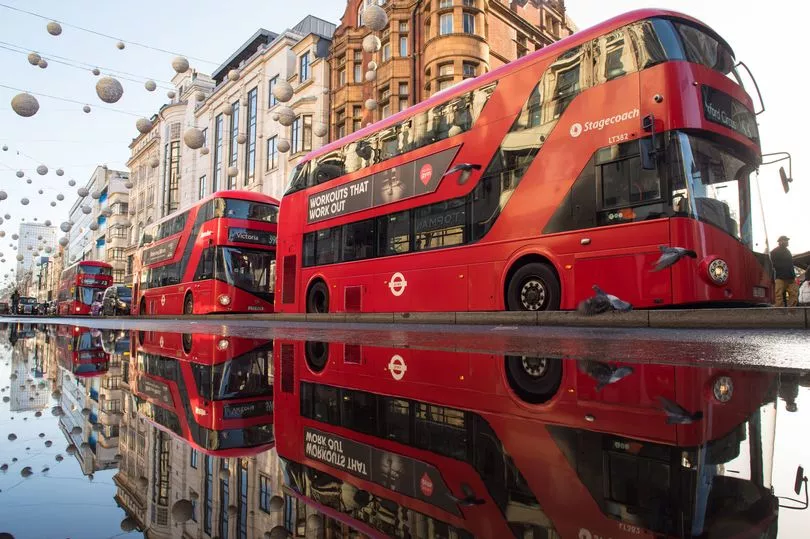red_busess: (276, 8, 762, 312), (130, 189, 276, 313)
